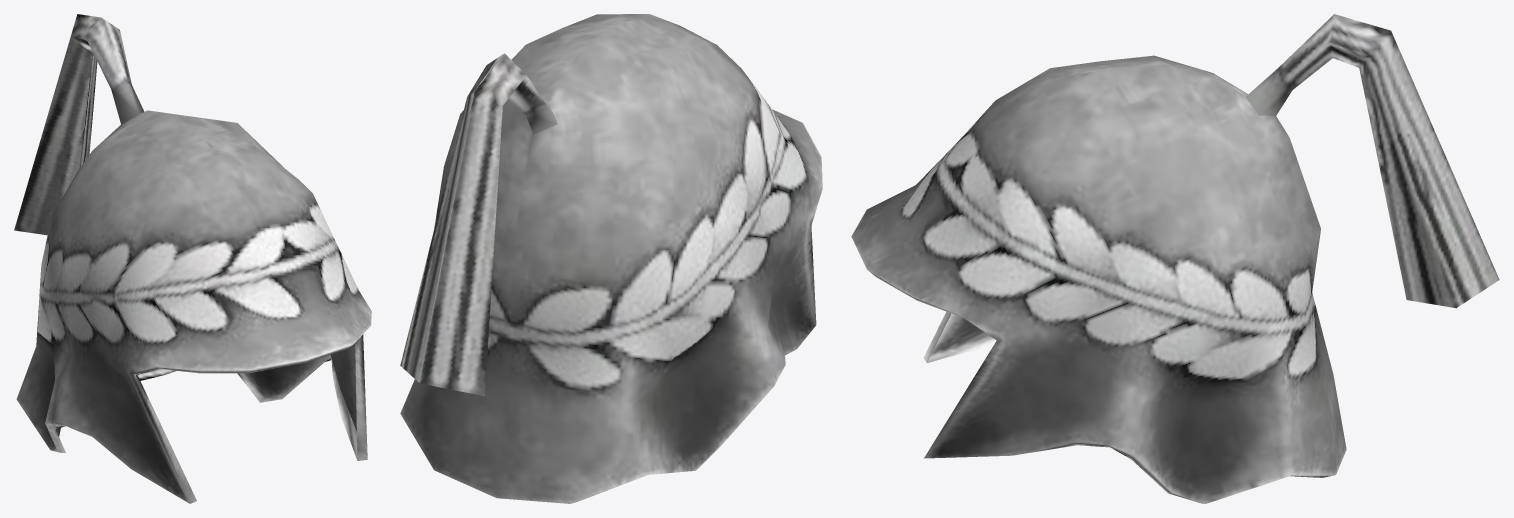
The model's file is helmet-championarchers.glb.
3 renders of one model, left to right at view 1: azimuth 30°, elevation 25°; view 2: azimuth 150°, elevation 25°; view 3: azimuth 270°, elevation 25°, orthographic. The views are drawn at different scales.
Size of the model in its own units: 0.2937 by 0.3645 by 0.4915.
1 material, 1 textured.
